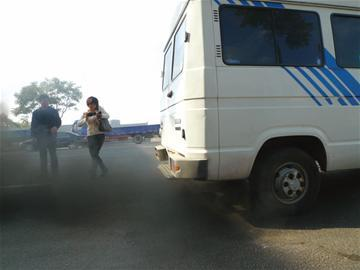smoke: (1, 181, 210, 236)
